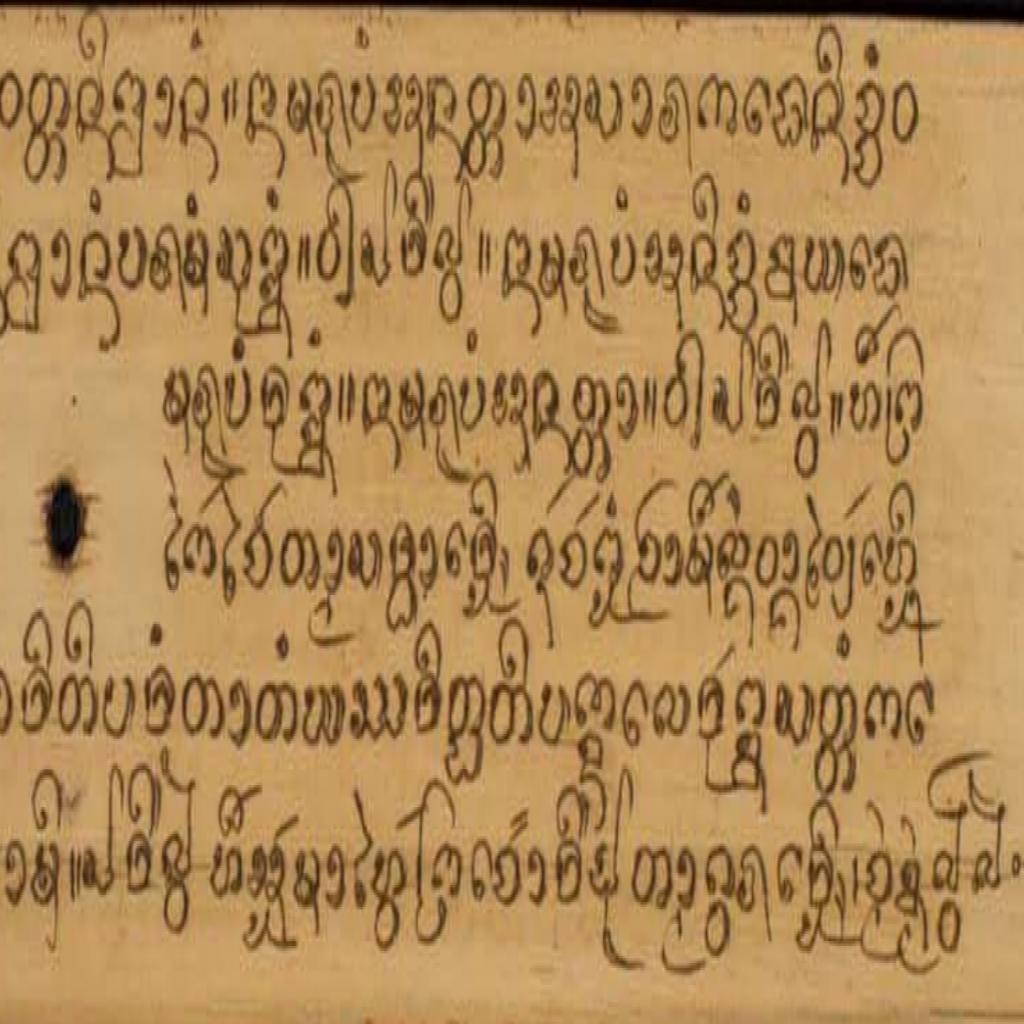LN001: (696, 67, 741, 143)
LN006: (558, 526, 591, 597)
